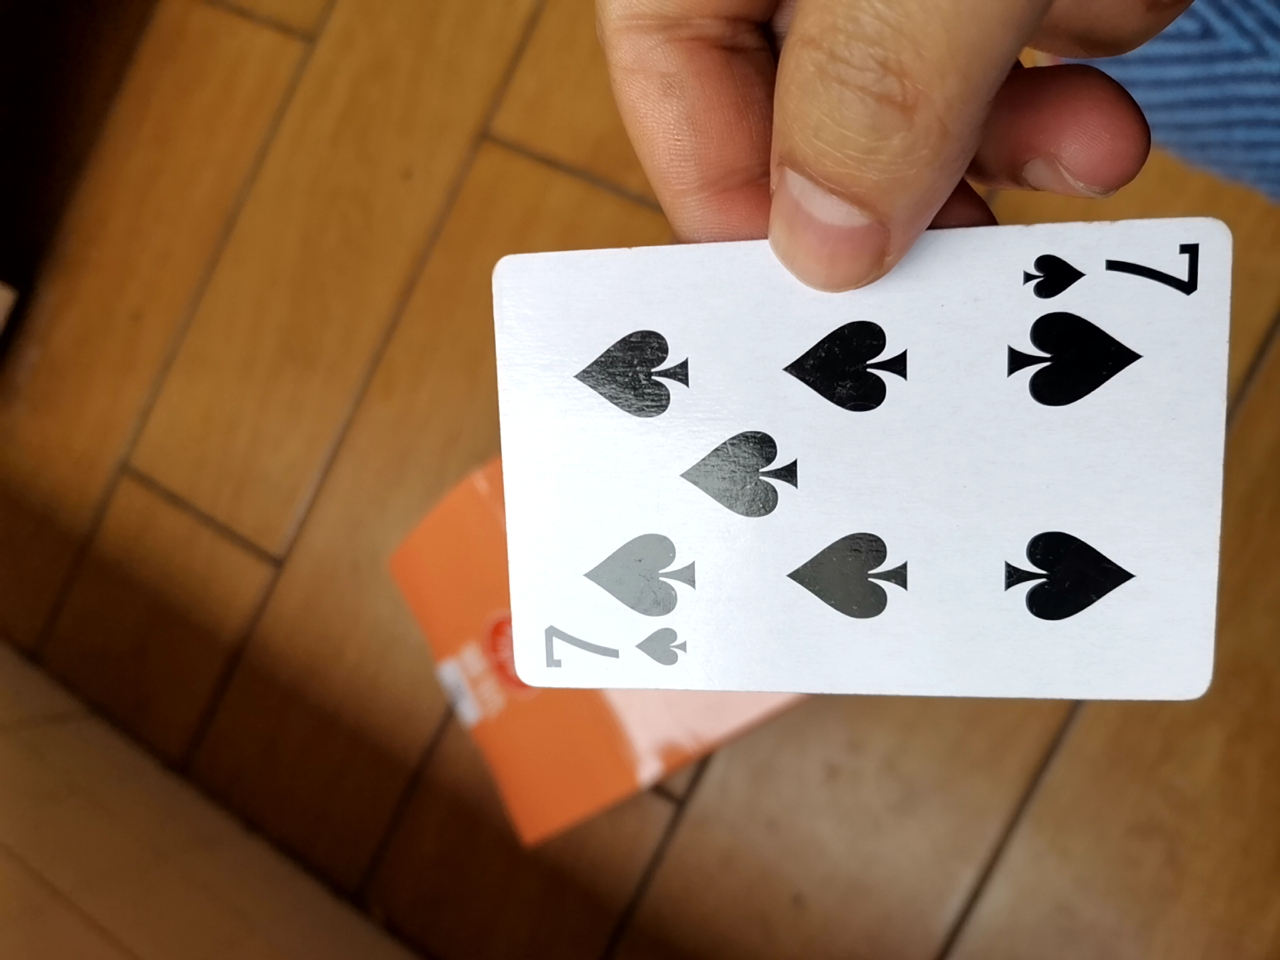ht 7: (467, 225, 1226, 721)
